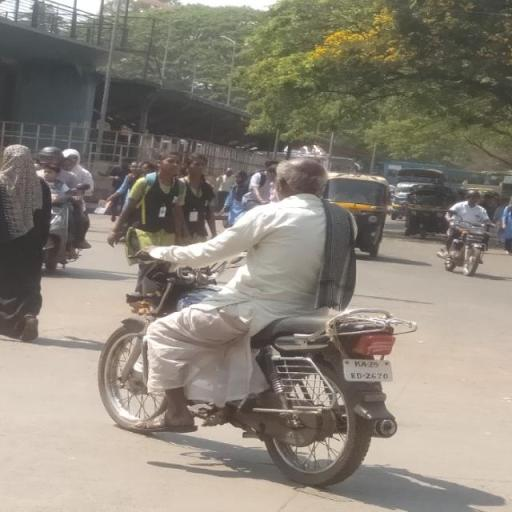bike: (90, 152, 412, 490)
numberplate: (344, 360, 395, 382)
withouthelmet: (274, 158, 328, 196)
